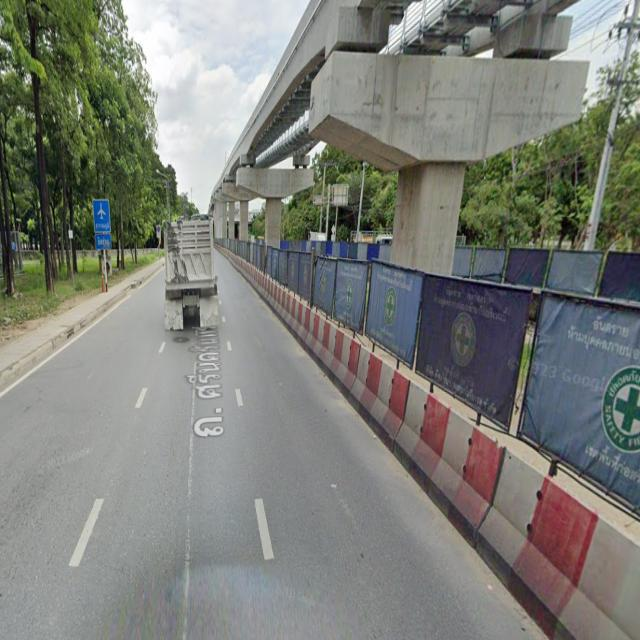fallen_object: (443, 404, 640, 640), (337, 323, 457, 502), (270, 273, 355, 384), (222, 237, 288, 319)
